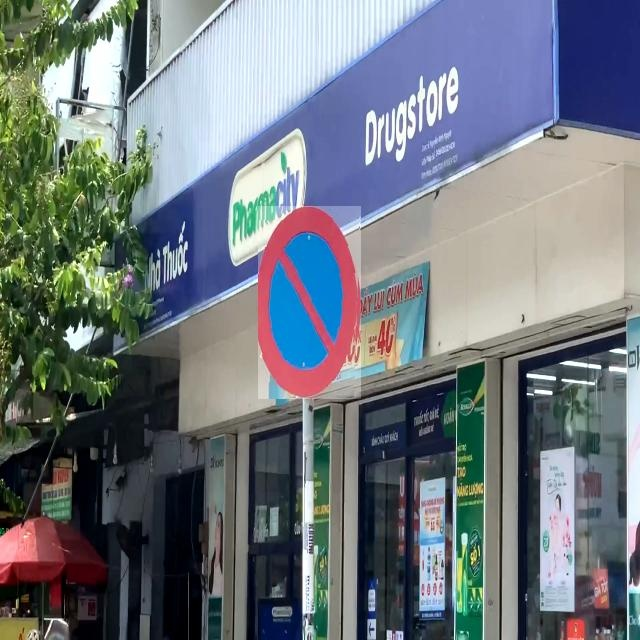bien_cam: (258, 206, 361, 399)
